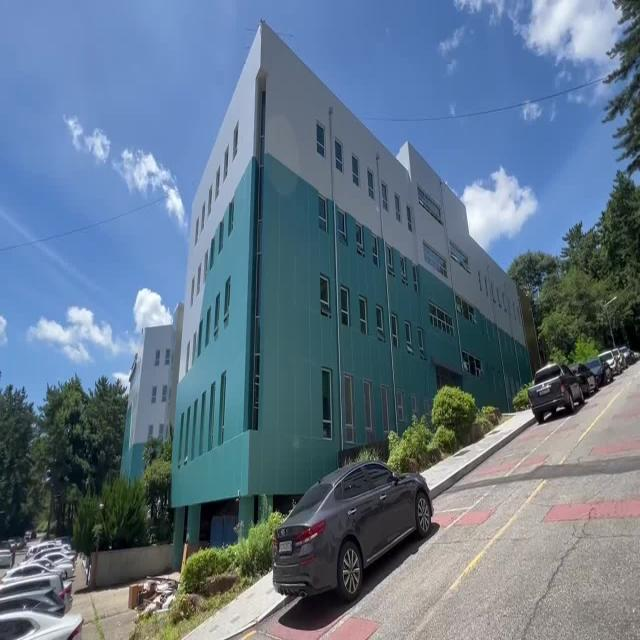building: (164, 33, 514, 402)
